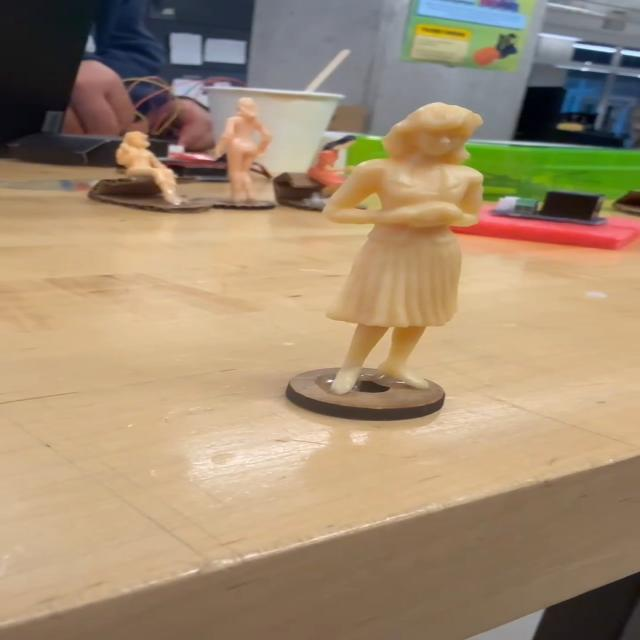Unauthorized: (320, 101, 491, 400)
